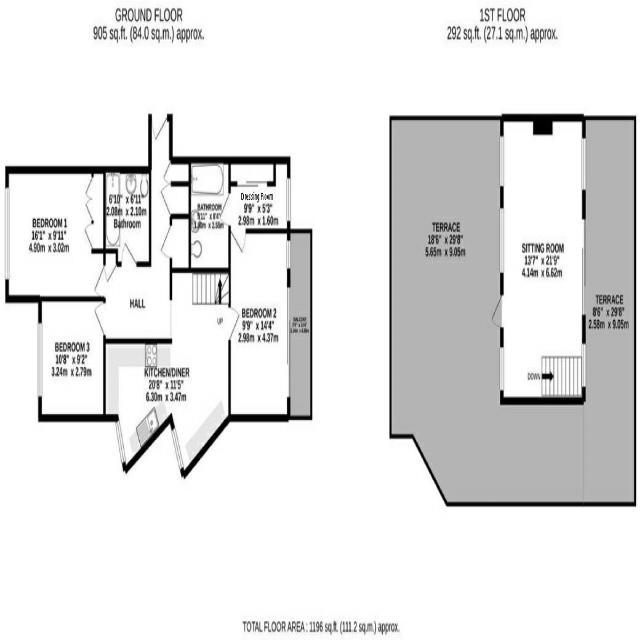DOOR: (488, 288, 505, 332), (230, 227, 247, 255), (228, 306, 241, 342), (93, 301, 106, 337), (93, 262, 106, 298), (218, 192, 231, 227), (120, 241, 137, 267)
ROOM: (103, 266, 241, 480), (5, 166, 106, 303), (228, 227, 291, 423), (38, 296, 106, 423)
WINDOW: (171, 425, 185, 472), (114, 418, 127, 467), (498, 202, 506, 278), (580, 133, 588, 193), (5, 187, 10, 281), (580, 341, 589, 391), (499, 132, 506, 189), (37, 321, 42, 398), (498, 344, 505, 392), (286, 177, 291, 222), (286, 239, 291, 270)
